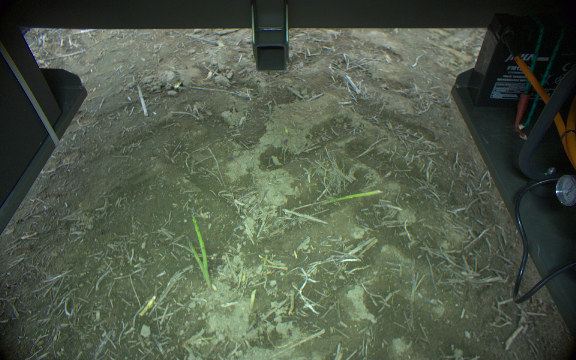aspa: (189, 205, 214, 287), (187, 240, 211, 288), (320, 188, 384, 202)
